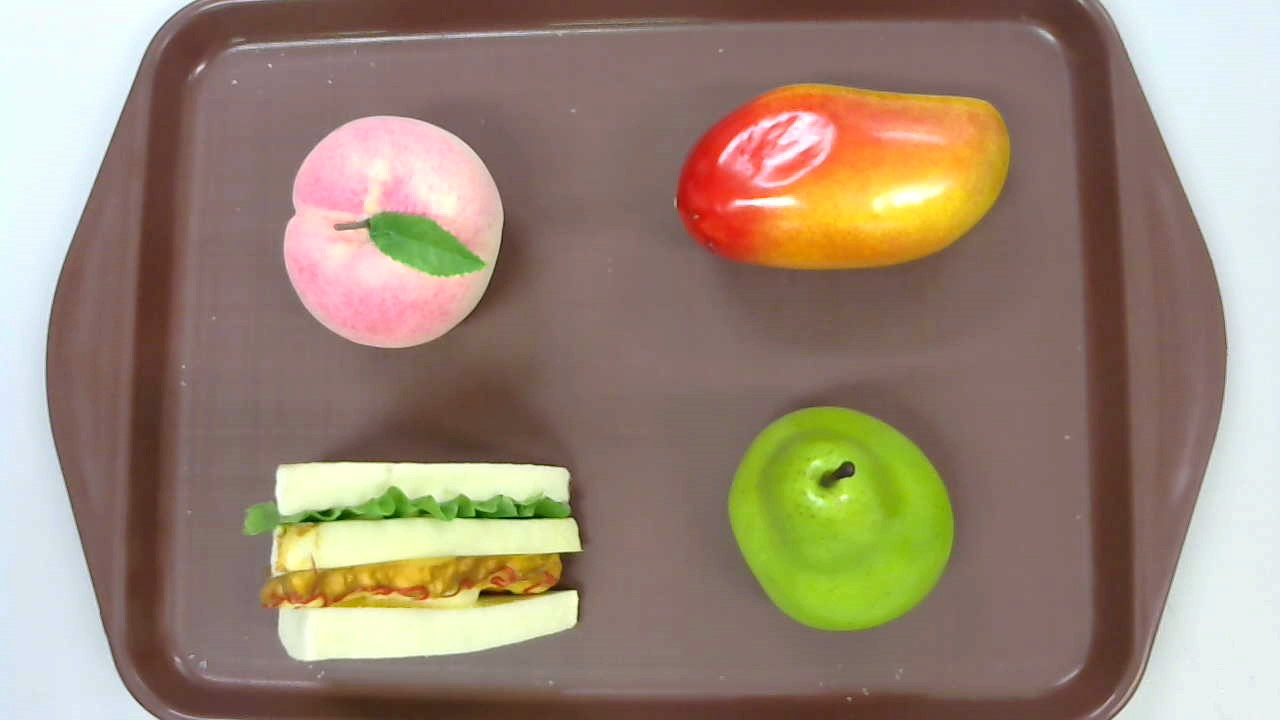green pear: (727, 404, 956, 632)
peach: (281, 115, 504, 347)
red mango: (673, 82, 1010, 269)
sandwich: (239, 460, 584, 662)
